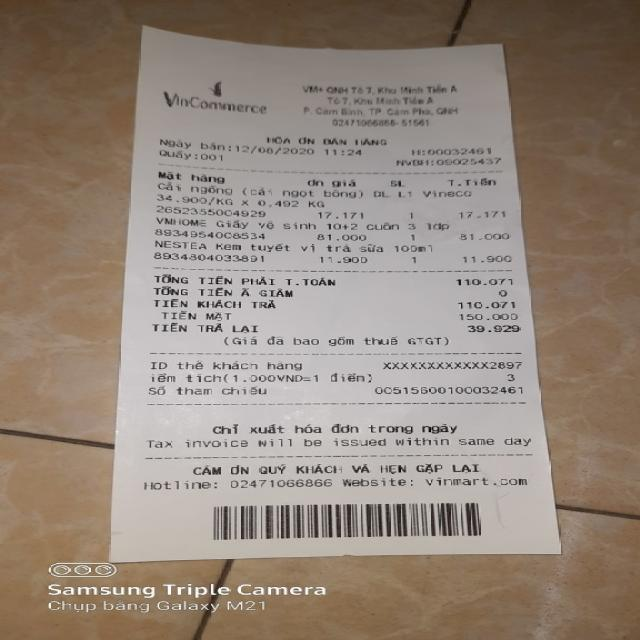Date: (234, 144, 317, 155)
Store_Name: (161, 89, 275, 119)
amount_number: (454, 276, 516, 288)
label_total: (152, 274, 339, 288)
